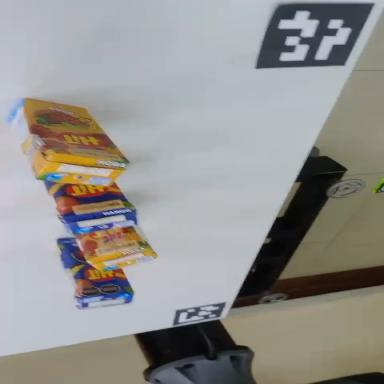HIT-MANGO: (54, 221, 136, 319), (43, 181, 137, 237)
HIT-MORA: (0, 71, 133, 219), (75, 222, 157, 274)
cara_F: (18, 98, 135, 166), (53, 219, 133, 313), (44, 180, 133, 219), (76, 219, 143, 262)
